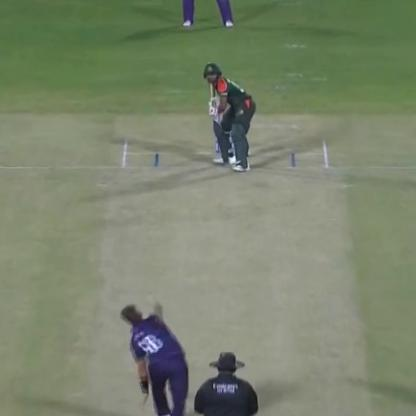bat: (205, 55, 227, 124)
pitch: (91, 142, 368, 415)
